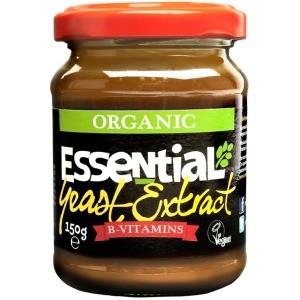yeast spread_brain food: (52, 84, 240, 225)
